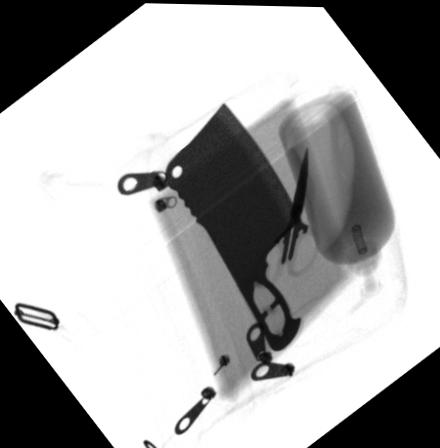Knife: (164, 99, 301, 352)
Scissors: (248, 140, 323, 285)
